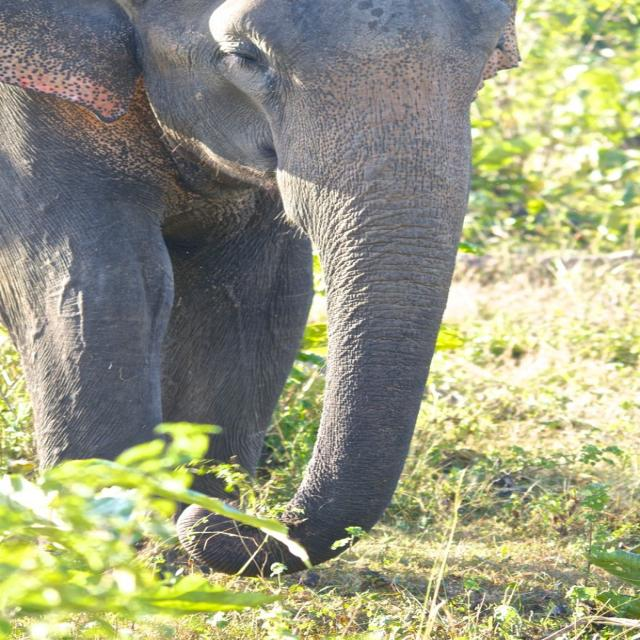elephant: (2, 0, 532, 609)
